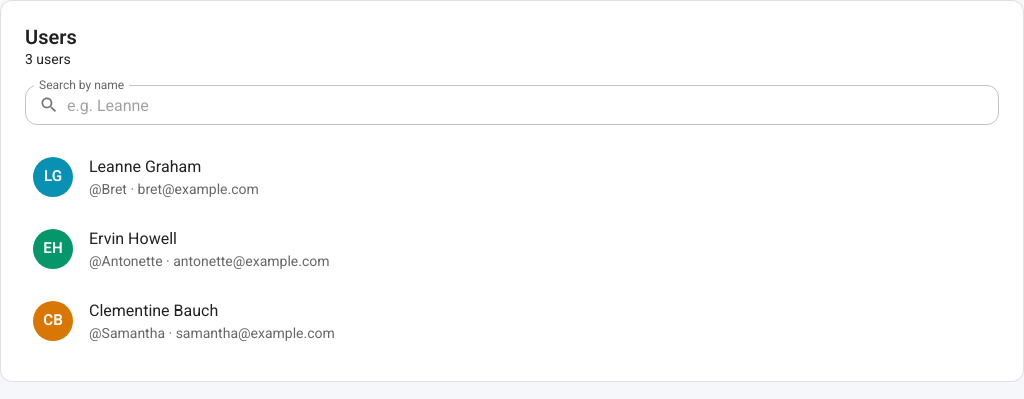
Test case: UsersPanel › filters the users by name and clears the search
This screenshot has width=1024, height=399.
Type "ervin" into the field with test id "user-search-input".
click(533, 105); type("ervin")  # box x1=67 y1=85 x2=999 y2=125
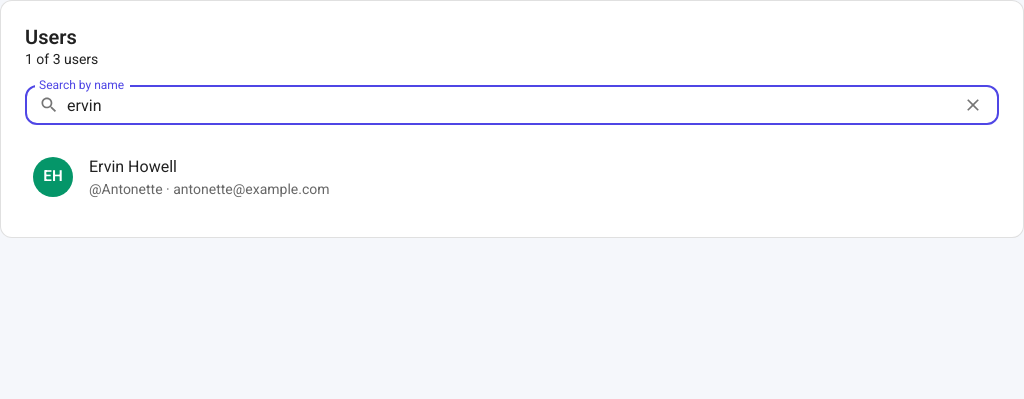
Expected: the text "Ervin Howell" is shown, x1=89 y1=157 x2=177 y2=176
Expected: the number of list items with test id "user-list-item" is 1, x1=33 y1=157 x2=330 y2=197
Click the button named "Clear search".
click(973, 105)  # box x1=958 y1=90 x2=988 y2=120
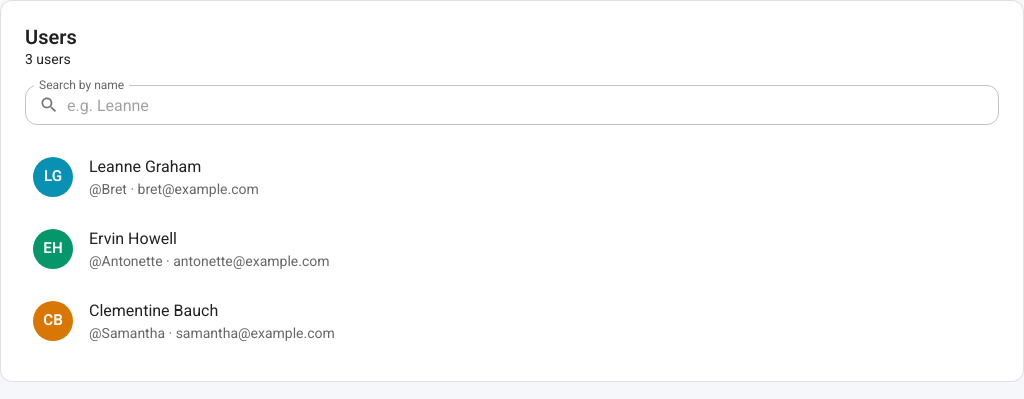
Expected: the number of list items with test id "user-list-item" is 3, x1=33 y1=157 x2=259 y2=197; x1=33 y1=229 x2=330 y2=269; x1=33 y1=301 x2=335 y2=341
